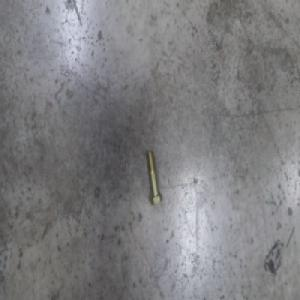Bolt: (145, 148, 162, 205)
